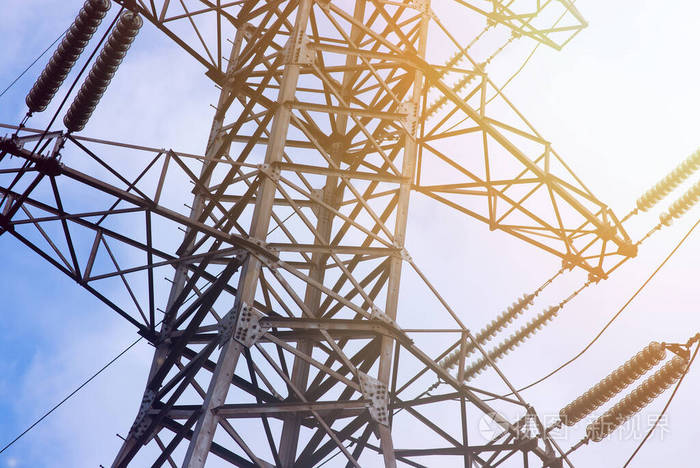insulator: (558, 338, 685, 445), (440, 293, 561, 379), (22, 1, 104, 112), (67, 15, 139, 130), (636, 154, 700, 222)
